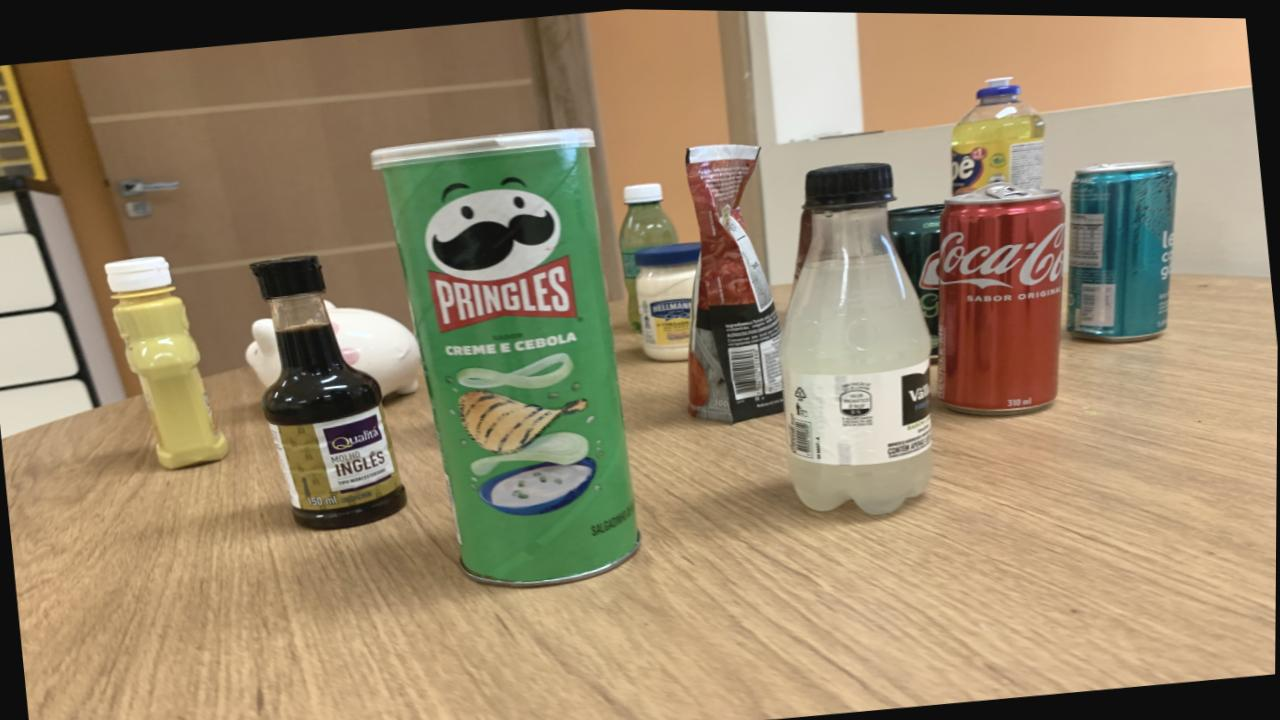Coke-Drinks: (937, 178, 1067, 411)
Detergent-Cleanup_Items: (950, 75, 1046, 191)
English_Sauce-Pantry_Items: (251, 254, 407, 528)
Guarana-Drinks: (618, 181, 678, 330)
Guarana_Can-Drinks: (888, 201, 945, 351)
Mayonnaise-Pantry_Items: (636, 239, 701, 358)
Mustard-Pantry_Items: (106, 254, 229, 468)
Pig_Safe-Miscellaneous: (325, 299, 422, 393), (247, 317, 282, 385)
Pringles-Snacks: (371, 126, 640, 584)
Soda-Drinks: (781, 159, 933, 511)
Tea-Drinks: (1067, 156, 1177, 338)
Tomato_Sauce-Pantry_Items: (686, 141, 785, 419)
